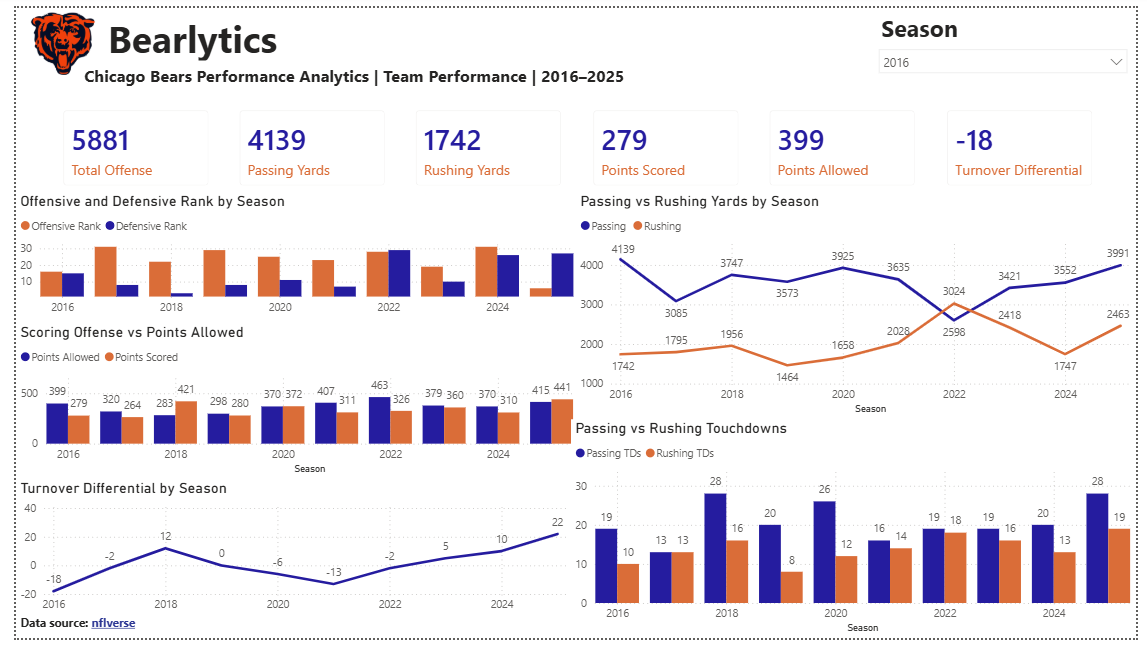

The dashboard page shown, as its layout file describes it:
{"tool":"powerbi","page":{"name":"Team Performance","canvas":[1280,720],"ordinal":1},"visuals":[{"type":"textbox","box":[100,0,220,90],"z":0},{"type":"image","box":[0,0,106.7,81.7],"z":1000},{"type":"slicer","fields":{"Values":["Dim Season.Season"]},"box":[975.7,0,304.3,100],"z":2000},{"type":"textbox","box":[73.3,60,681.7,36.7],"z":3000},{"type":"cardVisual","fields":{"Data":["Measuress.Total Offense Yards"]},"box":[36.7,100.7,200,120],"z":4000},{"type":"cardVisual","fields":{"Data":["Measuress.Total Passing Yards"]},"box":[238.7,100.7,200,120],"z":5000},{"type":"cardVisual","fields":{"Data":["Measuress.Total Rushing Yards"]},"box":[440.7,100.7,200,120],"z":6000},{"type":"cardVisual","fields":{"Data":["Measuress.Total Points For"]},"box":[642.7,100.7,200,120],"z":7000},{"type":"cardVisual","fields":{"Data":["Measuress.Total Points Against"]},"box":[844.7,100.7,200,120],"z":8000},{"type":"cardVisual","fields":{"Data":["Measuress.Turnover Differential"]},"box":[1046.7,100.7,200,120],"z":9000},{"type":"clusteredColumnChart","title":"Scoring Offense vs Points Allowed","fields":{"Category":["Dim Season.Season"],"Y":["Measuress.Total Points Against","Measuress.Total Points For"]},"box":[0,360.5,641.9,177.9],"z":10000},{"type":"lineChart","title":"Passing vs Rushing Yards by Season","fields":{"Category":["Dim Season.Season"],"Y":["Measuress.Total Passing Yards","Measuress.Total Rushing Yards"]},"box":[639.5,210.5,640.7,259.3],"z":11000},{"type":"clusteredColumnChart","title":"Passing vs Rushing Touchdowns","fields":{"Y":["Measuress.Total Passing TDs","Measuress.Total Rushing TDs"],"Category":["Dim Season.Season"]},"box":[634.9,469.8,644.2,250],"z":12000},{"type":"lineChart","title":"Turnover Differential by Season","fields":{"Category":["Dim Season.Season"],"Y":["Measuress.Turnover Differential"]},"box":[0,538.6,637.1,161.4],"z":13000},{"type":"clusteredColumnChart","title":"Offensive and Defensive Rank by Season","fields":{"Category":["Dim Season.Season"],"Y":["Sum(Fact League Stats.Offensive_Rank)","Sum(Fact League Stats.Defensive_Rank)"]},"box":[0,210,642.2,150],"z":15000},{"type":"textbox","box":[0,688.6,151.4,31.4],"z":15001}]}

Visuals, with their boxes in screenshot pixels (x1, y1, x2, y2), scaled from the page's 1280x720 canvas onto the 1147x650 screenshot:
textbox: [left=90, top=0, right=287, bottom=81]
image: [left=0, top=0, right=96, bottom=74]
slicer - Dim Season.Season: [left=874, top=0, right=1146, bottom=90]
textbox: [left=66, top=54, right=677, bottom=87]
cardVisual - Measuress.Total Offense Yards: [left=33, top=91, right=212, bottom=199]
cardVisual - Measuress.Total Passing Yards: [left=214, top=91, right=393, bottom=199]
cardVisual - Measuress.Total Rushing Yards: [left=395, top=91, right=574, bottom=199]
cardVisual - Measuress.Total Points For: [left=576, top=91, right=755, bottom=199]
cardVisual - Measuress.Total Points Against: [left=757, top=91, right=936, bottom=199]
cardVisual - Measuress.Turnover Differential: [left=938, top=91, right=1117, bottom=199]
"Scoring Offense vs Points Allowed" clusteredColumnChart: [left=0, top=325, right=575, bottom=486]
"Passing vs Rushing Yards by Season" lineChart: [left=573, top=190, right=1146, bottom=424]
"Passing vs Rushing Touchdowns" clusteredColumnChart: [left=569, top=424, right=1146, bottom=649]
"Turnover Differential by Season" lineChart: [left=0, top=486, right=571, bottom=632]
"Offensive and Defensive Rank by Season" clusteredColumnChart: [left=0, top=190, right=575, bottom=325]
textbox: [left=0, top=622, right=136, bottom=649]
